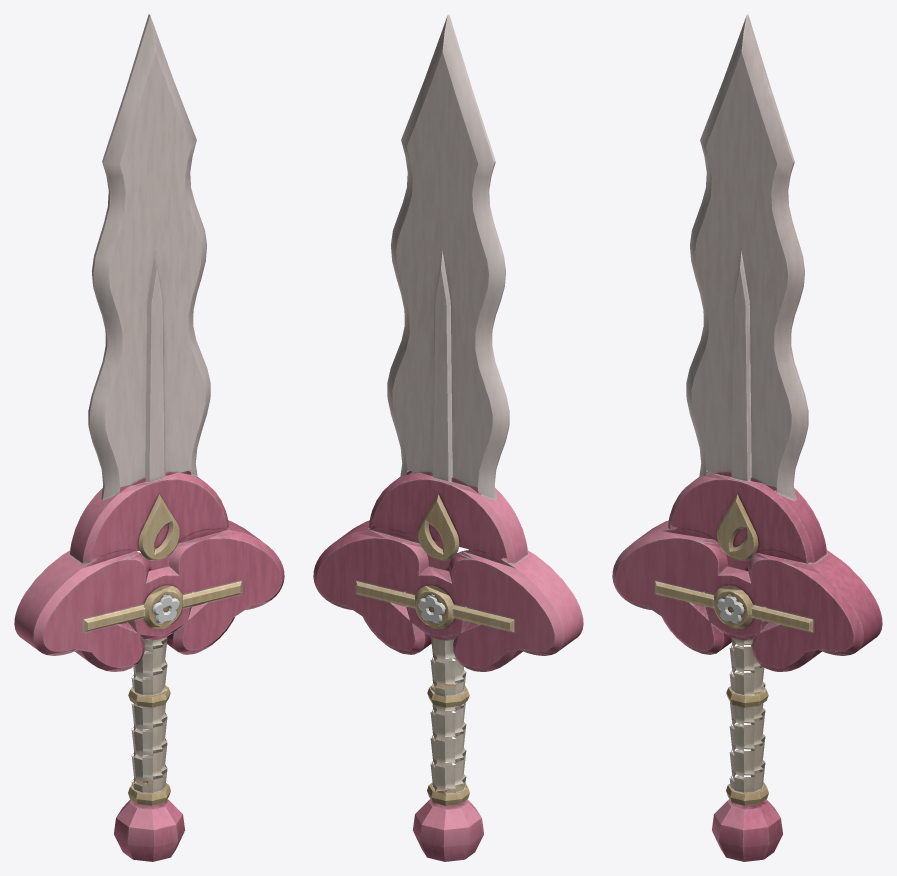
Rendered from Rosewarden.fbx.
3 views of the same model, side by side, from view 1: azimuth 30°, elevation 25°; view 2: azimuth 150°, elevation 25°; view 3: azimuth 330°, elevation 25° (orthographic).
Visible parts, largest first — view 1: Rosewarden_Body, Rosewarden_Glow; view 2: Rosewarden_Body, Rosewarden_Glow; view 3: Rosewarden_Body, Rosewarden_Glow.
Boxes of the visible parts, x1,y1,x2,y2 form: Rosewarden_Body: (14, 14, 284, 861); Rosewarden_Glow: (152, 594, 179, 623); Rosewarden_Body: (313, 14, 583, 861); Rosewarden_Glow: (418, 594, 445, 623); Rosewarden_Body: (612, 14, 882, 861); Rosewarden_Glow: (717, 594, 744, 623).
Bounding box in the file's own units: 1.83 × 5.88 × 0.45.
